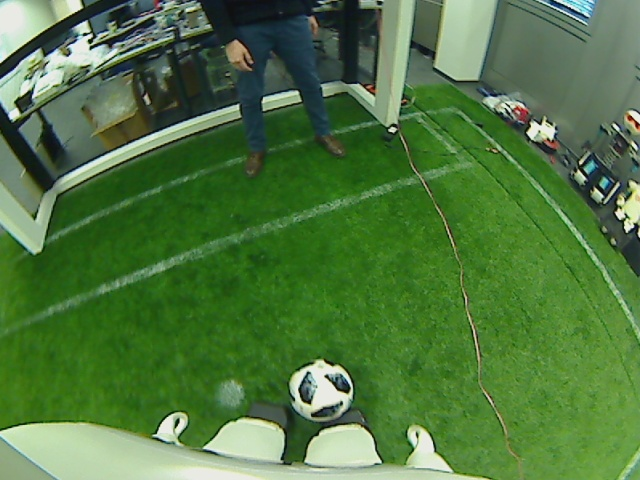ball: (284, 356, 360, 424)
